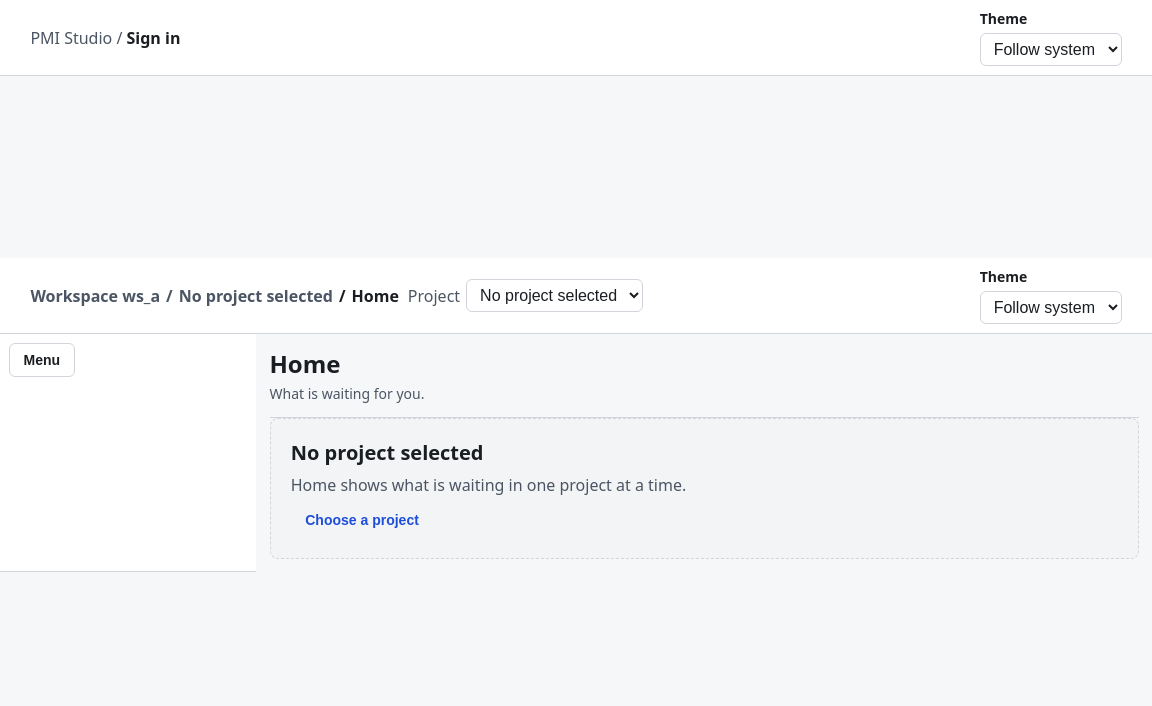
Test case: T440a · the drawer at a narrow width › tells assistive technology whether it is open
(page scrolled)
Click the button "Menu": [42, 360] box [9, 343, 75, 377]
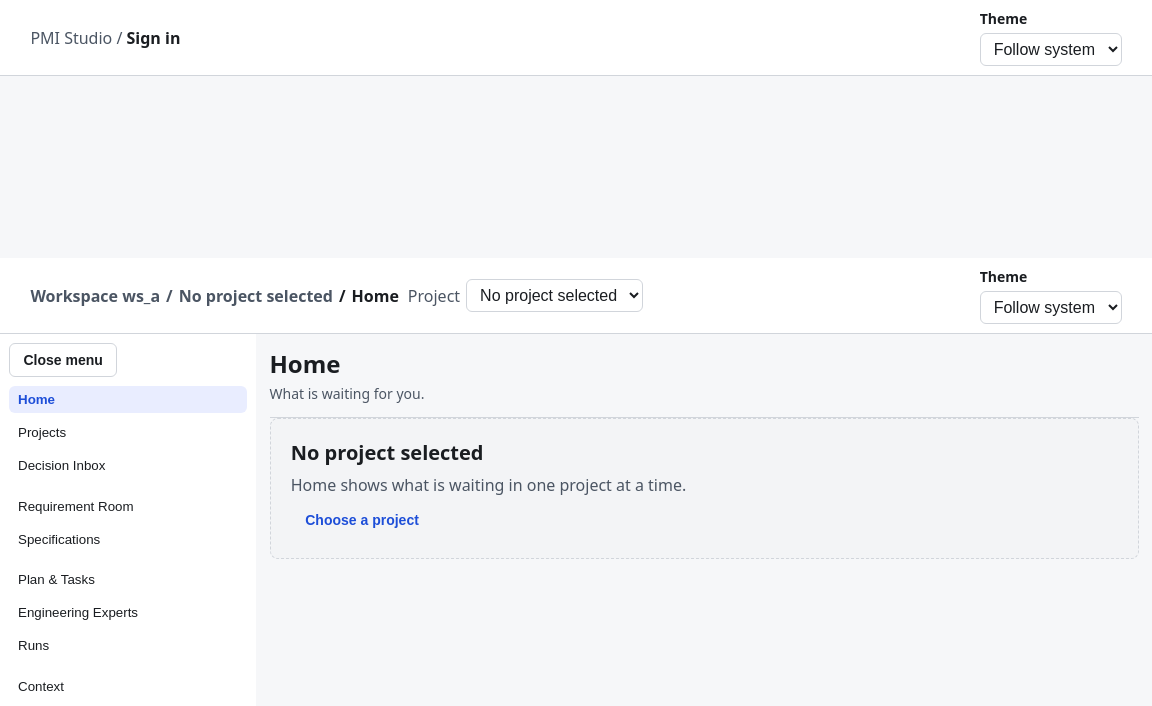
Now the button "Close menu" is expanded, box [9, 343, 117, 377]
